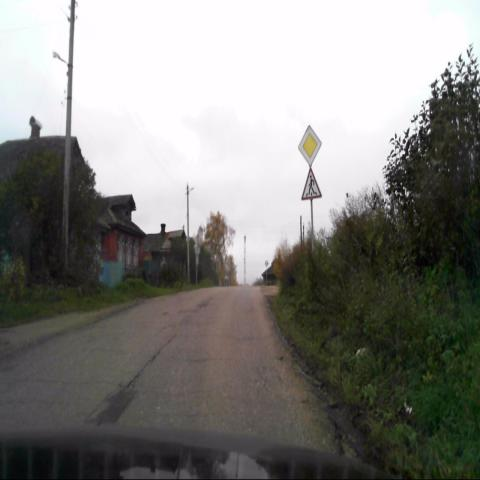2_1: (298, 122, 322, 166)
